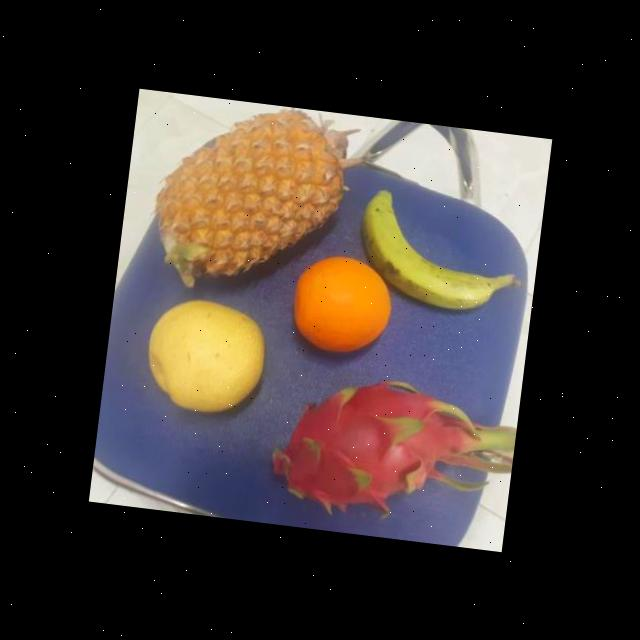banana: (348, 185, 506, 319)
orange: (286, 245, 398, 362)
pear: (140, 290, 272, 420)
pineapple: (147, 93, 349, 291)
pitaya: (272, 367, 462, 519)
